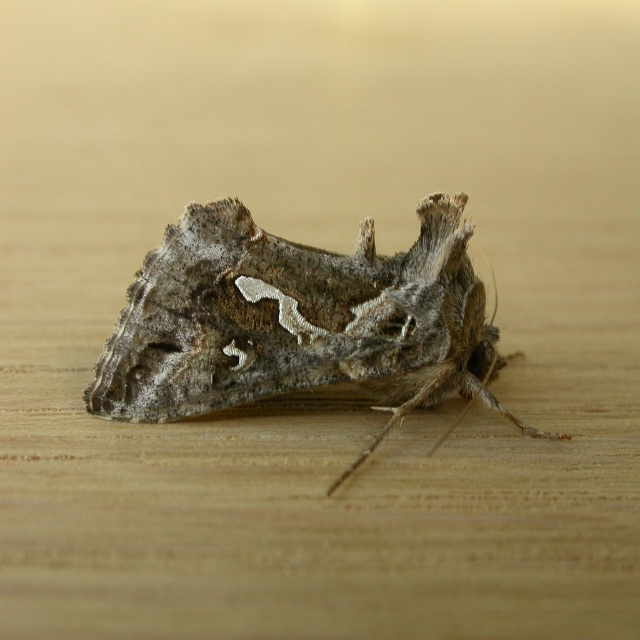Moths and butterflies: (81, 189, 574, 500)
